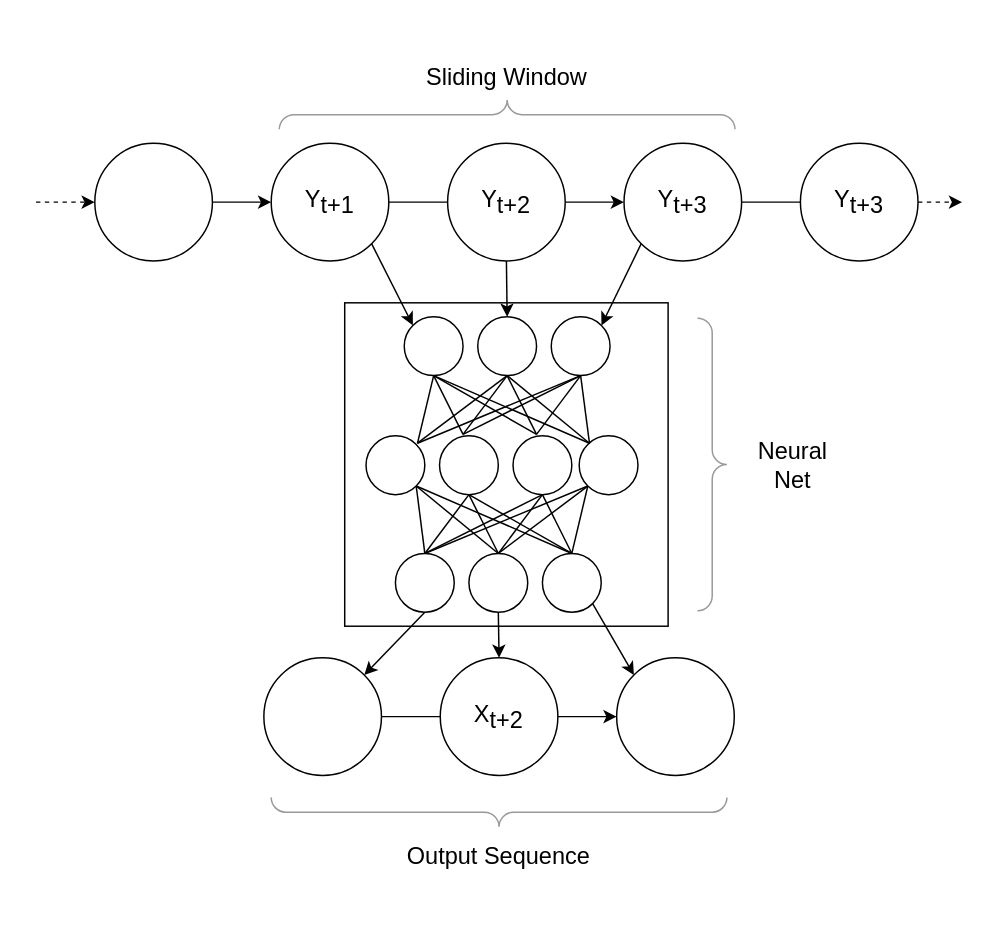
Some shapes in this 1000 by 932 pixel diagram are drawn without their labels. Each missing label, with the centre of its shape:
x t+1: the point at 321,715
X t+3: the point at 674,715
Y t: the point at 152,201
